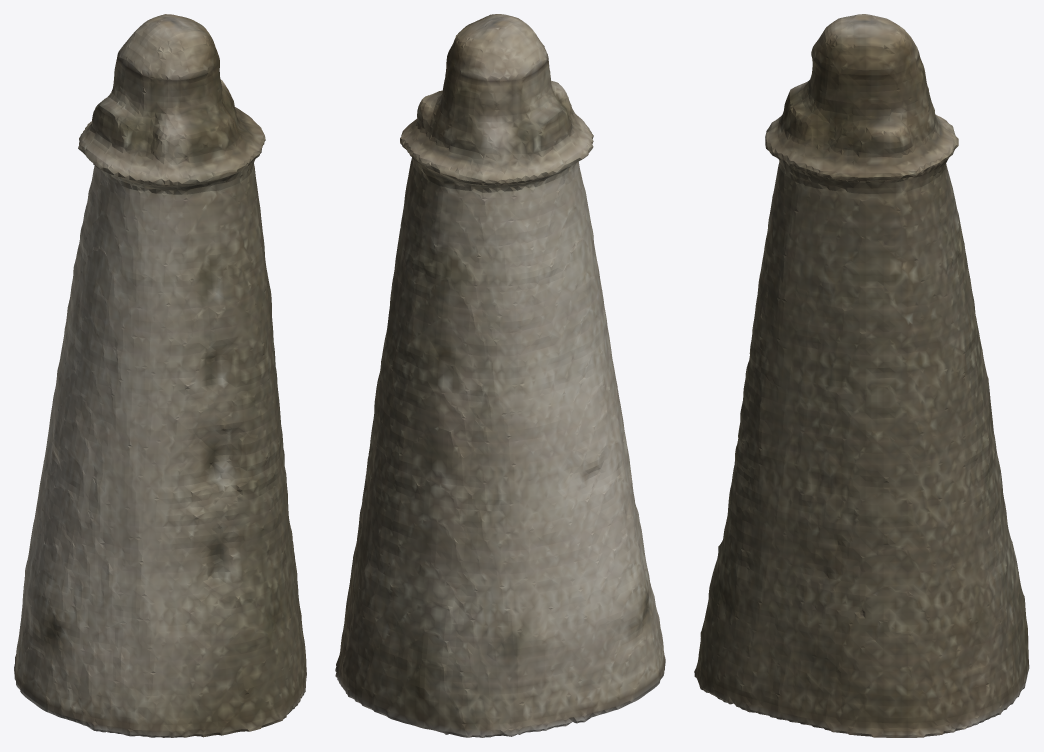
File: faro.glb
The picture shows the model from 3 angles, left to right: view 1: azimuth 30°, elevation 25°; view 2: azimuth 150°, elevation 25°; view 3: azimuth 270°, elevation 25°; orthographic projection.
Parts seen in each view (by area): view 1: world; view 2: world; view 3: world.
Part boxes in pixels (<box>): world: <box>14,14,306,737</box>; world: <box>335,14,665,737</box>; world: <box>694,14,1029,737</box>.
Bounding box in the file's own units: 0.876 × 1.99 × 0.9154.
